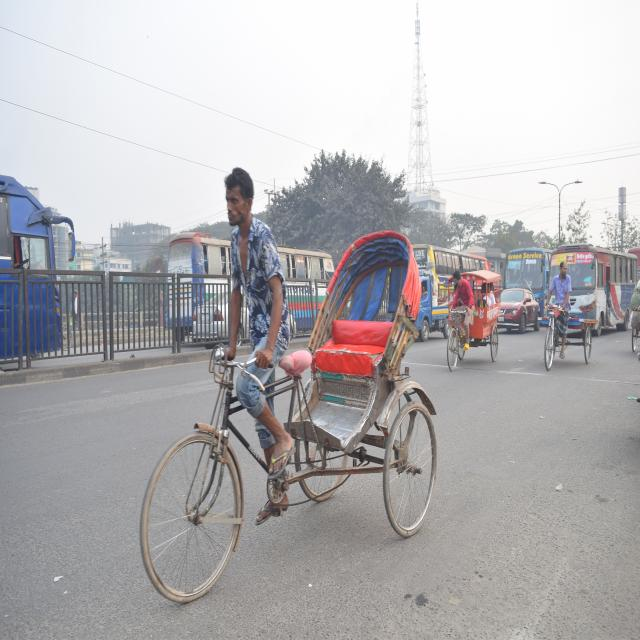bus: (154, 235, 354, 346), (0, 182, 100, 398), (409, 233, 500, 302), (555, 256, 640, 326), (507, 247, 552, 326)
pickup-van: (430, 276, 432, 304)
